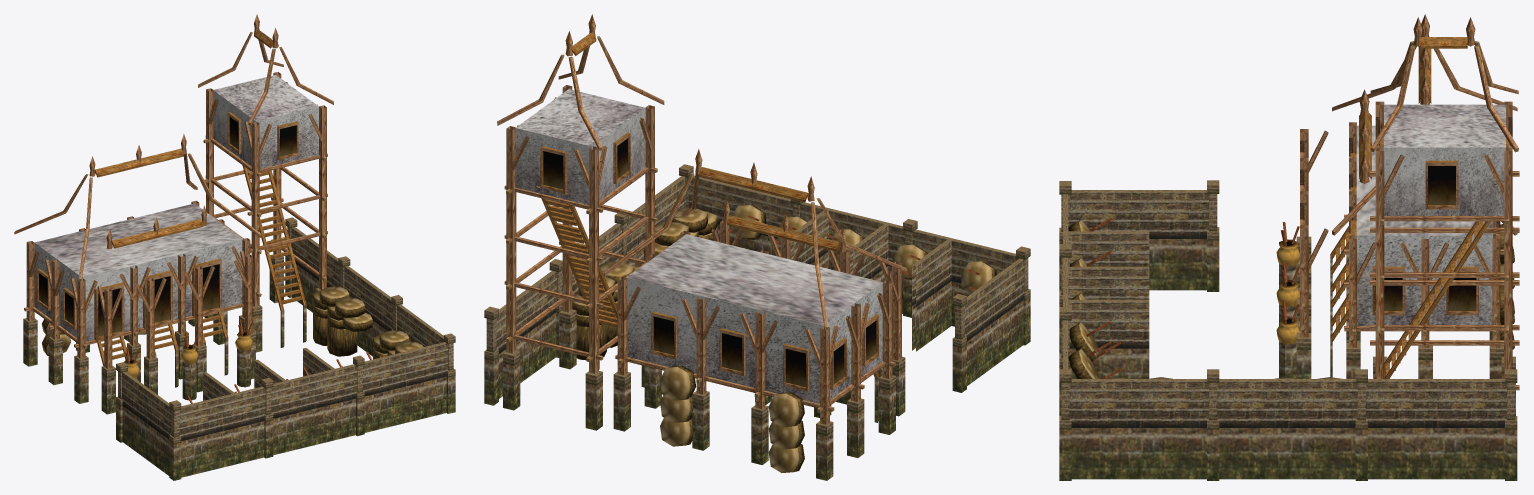
File: range.dae
The picture shows the model from 3 angles, left to right: view 1: azimuth 30°, elevation 25°; view 2: azimuth 150°, elevation 25°; view 3: azimuth 270°, elevation 25°; orthographic projection. The views are drawn at different scales.
Visible parts, largest first — view 1: range; view 2: range; view 3: range.
Part boxes in pixels (x1=…): range: x1=14, y1=14, x2=455, y2=480; range: x1=484, y1=14, x2=1030, y2=480; range: x1=1059, y1=14, x2=1519, y2=480.
Size of the model in its own units: 24.34 by 24.39 by 25.17.
